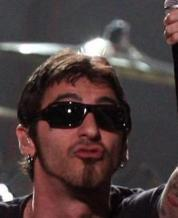face: (52, 96, 118, 161)
